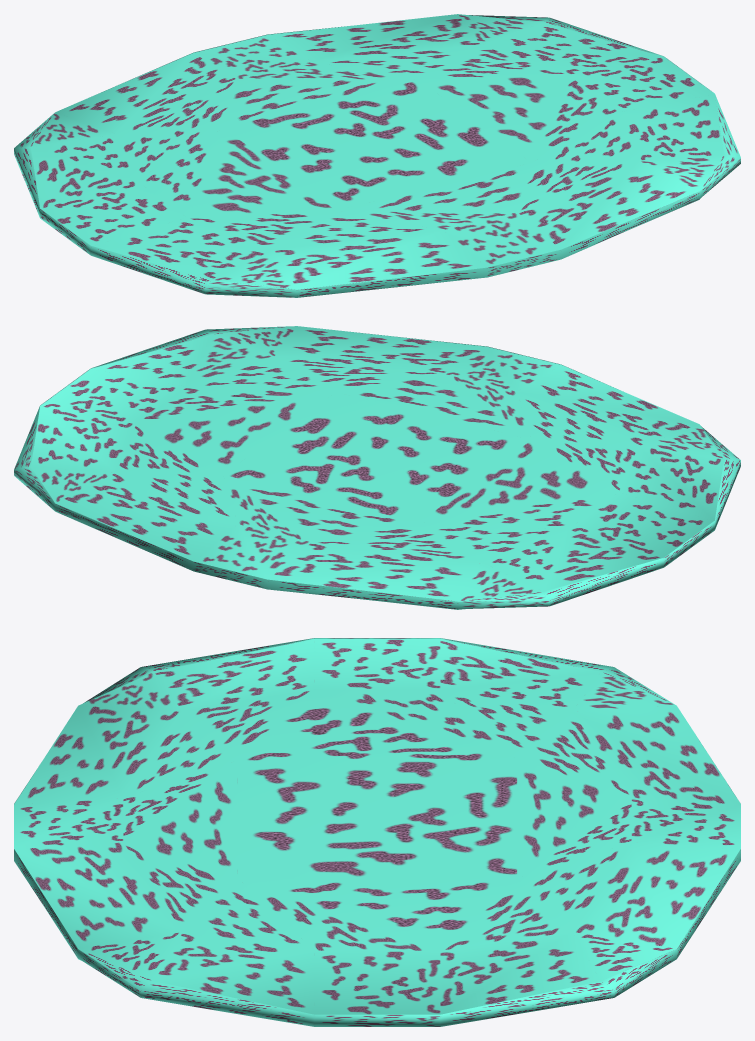
File: plattformrutschig.fbx
3 renders of one model, top to bottom at view 1: azimuth 30°, elevation 25°; view 2: azimuth 150°, elevation 25°; view 3: azimuth 270°, elevation 25°, orthographic. The views are drawn at different scales.
Visible parts, largest first — view 1: Cube; view 2: Cube; view 3: Cube.
Boxes of the visible parts, x1,y1,x2,y2 form: Cube: (14, 14, 740, 297); Cube: (14, 326, 740, 609); Cube: (14, 638, 740, 1026).
Size of the model in its own units: 2.48 by 0.0806 by 2.02.
Materials: 1 (1 with a texture image).
